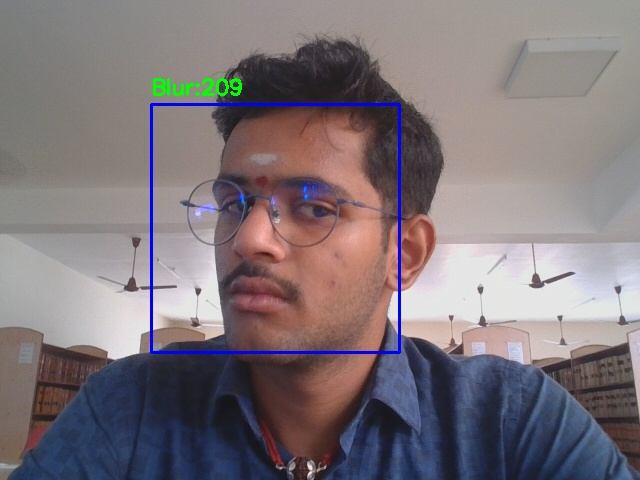real: (151, 104, 399, 352)
